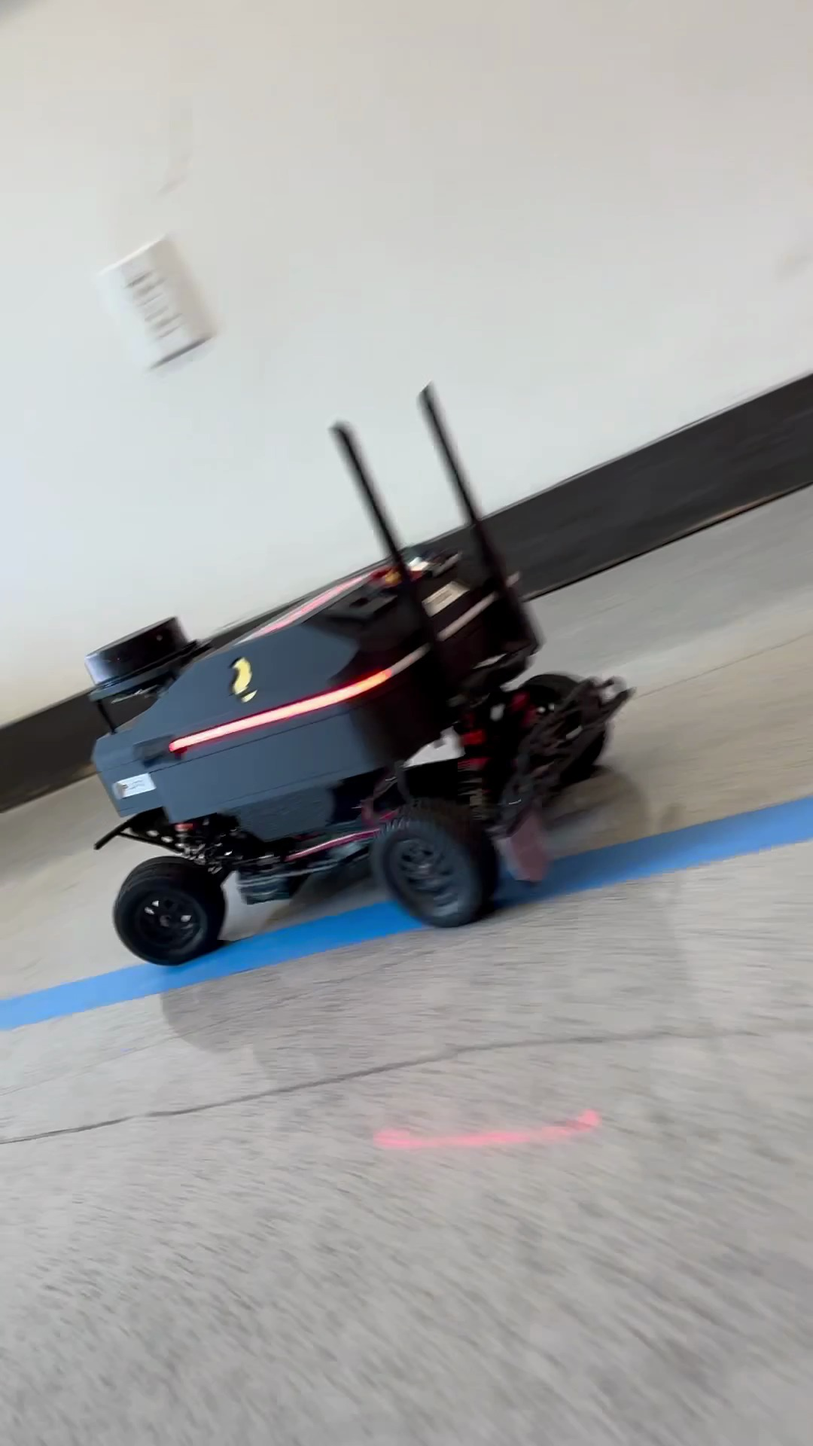racecar: (81, 385, 633, 963)
